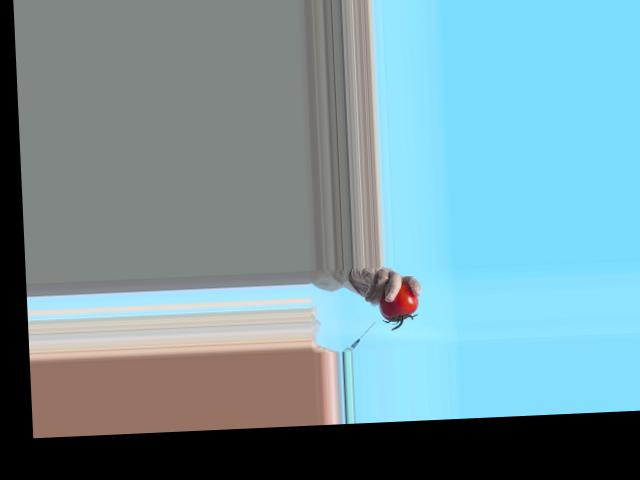tomato: (378, 281, 419, 321)
